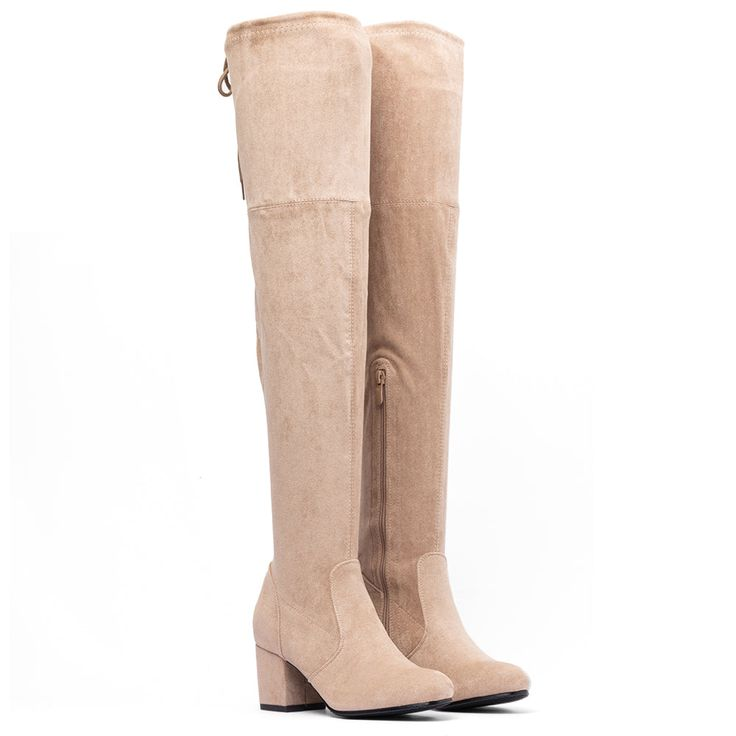gamuza: (217, 13, 530, 713)
